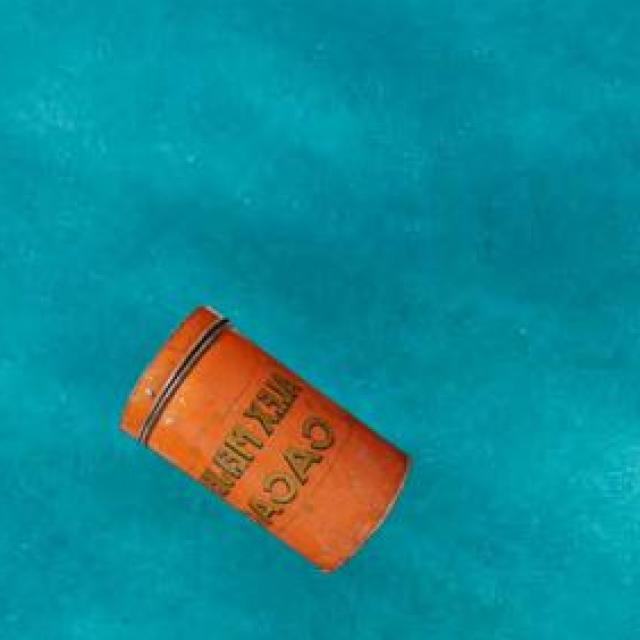logam: (124, 303, 414, 569)
